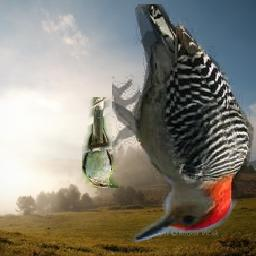Cuckoo: (83, 98, 120, 189)
Woodpecker: (112, 4, 254, 242)
